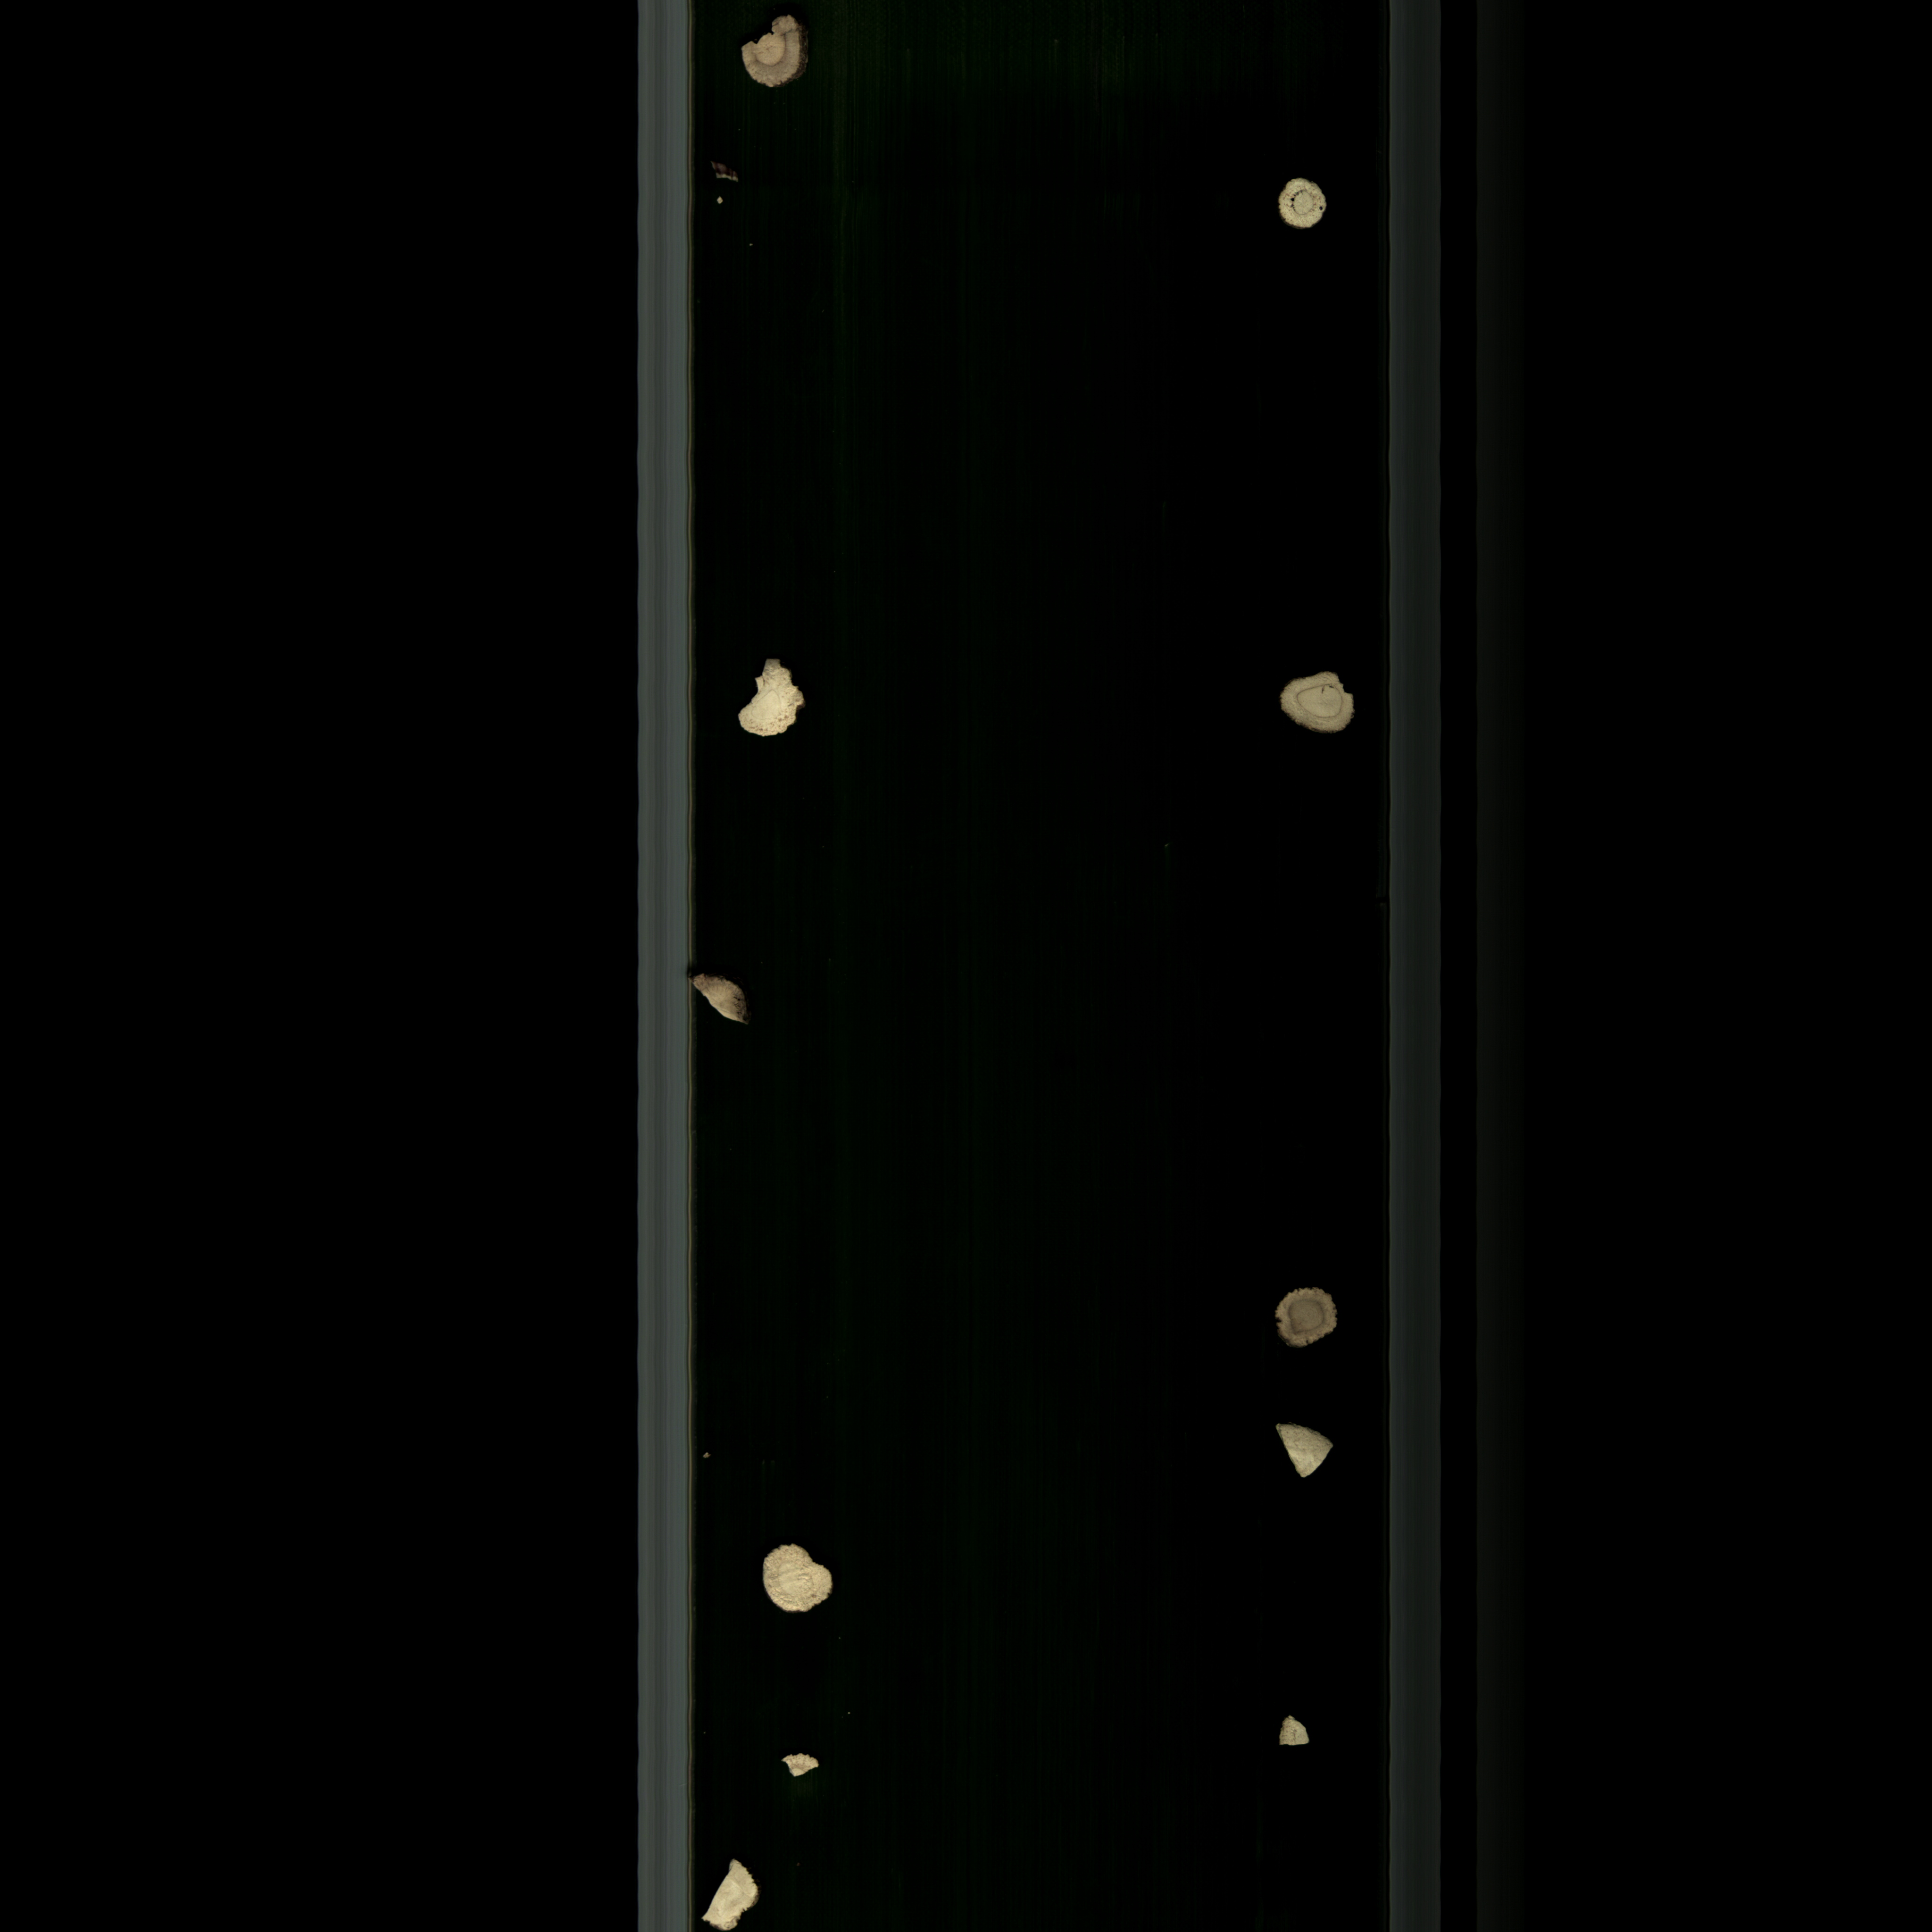debris: (1260, 658, 1380, 752), (725, 651, 821, 750)
dreg: (688, 955, 778, 1042), (1261, 1417, 1343, 1506), (697, 1856, 770, 1927), (1261, 1702, 1327, 1764), (766, 1739, 837, 1789), (709, 152, 766, 200)
hole: (1276, 157, 1339, 255)
moldy: (1261, 1272, 1361, 1361), (729, 9, 807, 113)
